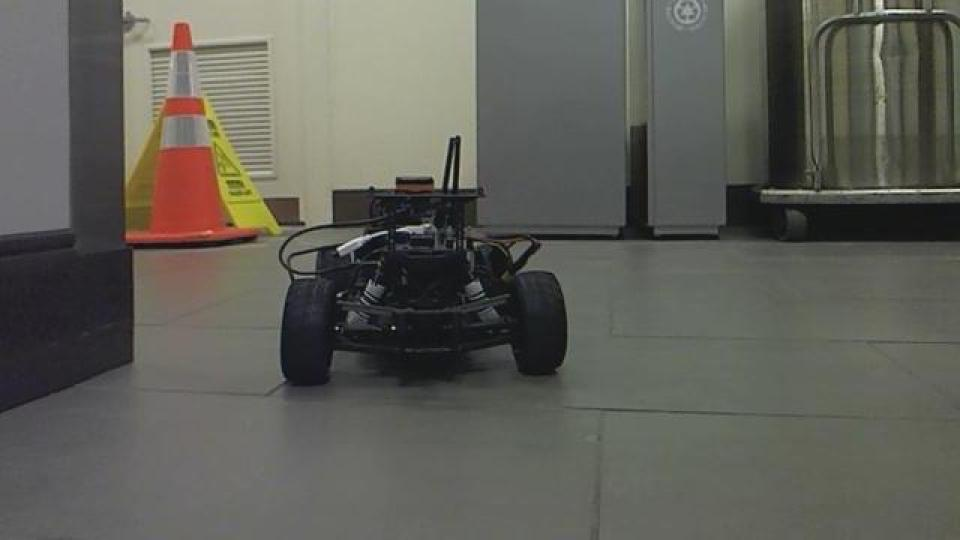car: (273, 134, 570, 388)
